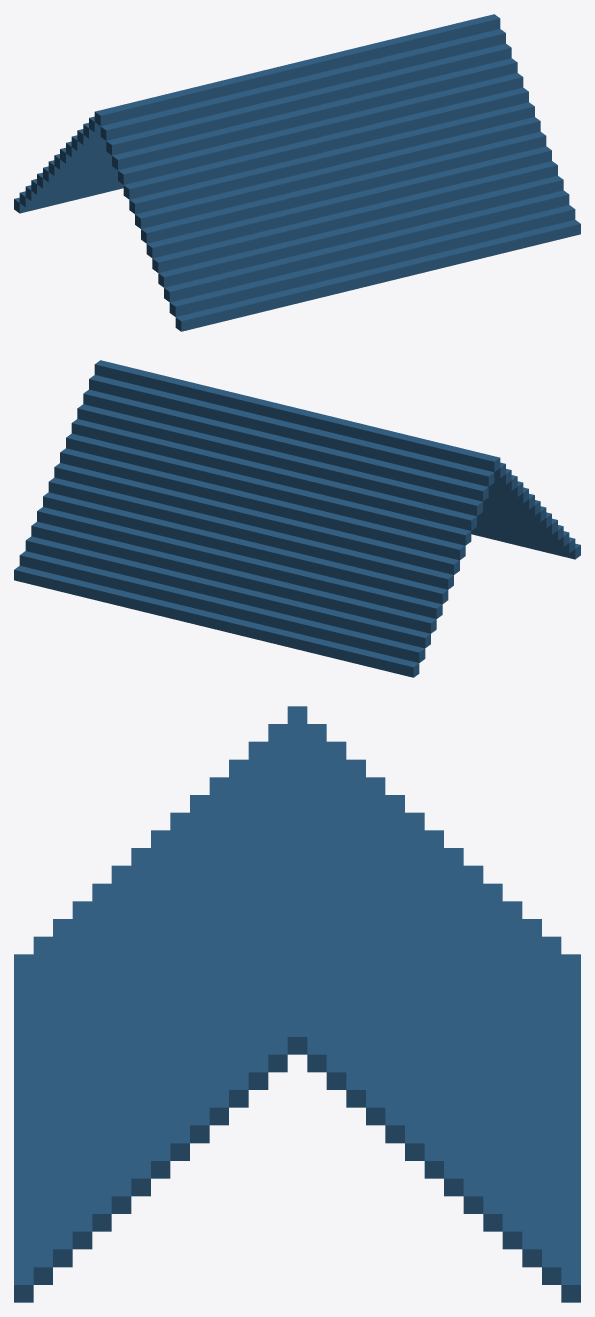
File: ConstructionMaterials-28.obj
3 renders of one model, top to bottom at view 1: azimuth 30°, elevation 25°; view 2: azimuth 150°, elevation 25°; view 3: azimuth 270°, elevation 25°, orthographic. The views are drawn at different scales.
Bounding box in the file's own units: 4 × 1.5 × 2.9.
Materials: 1 (1 with a texture image).
